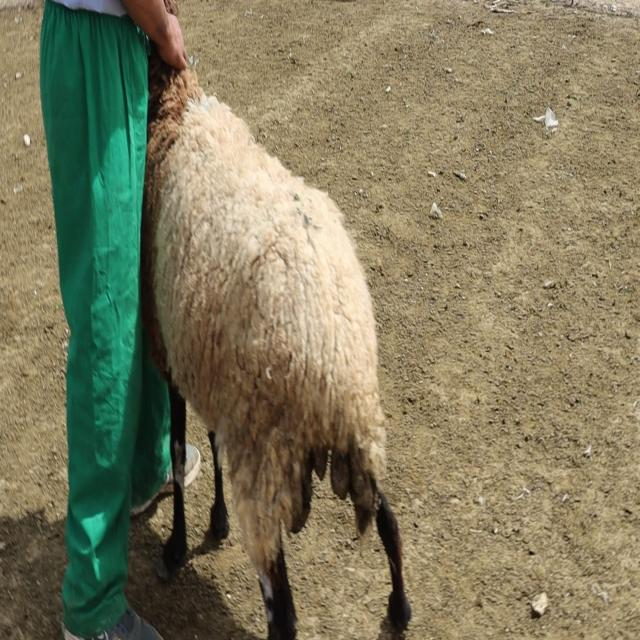Score_2: (141, 40, 411, 639)
